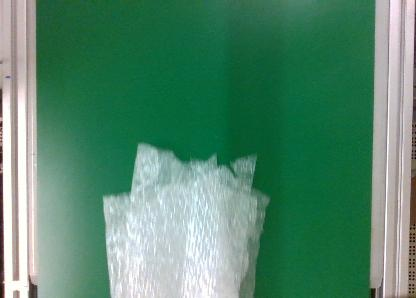Others: (102, 139, 270, 298)
